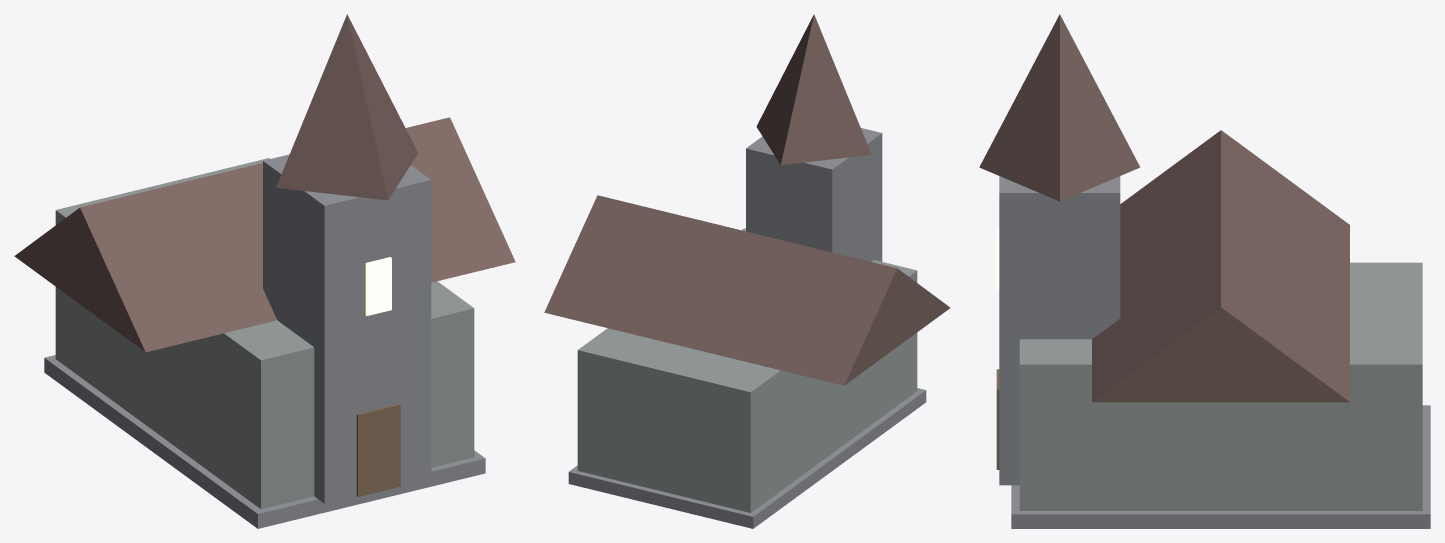
File: church.glb
3 views of the same model, side by side, from view 1: azimuth 30°, elevation 25°; view 2: azimuth 150°, elevation 25°; view 3: azimuth 270°, elevation 25° (orthographic). The views are drawn at different scales.
Visible parts, largest first — view 1: church; view 2: church; view 3: church.
Boxes of the visible parts, x1,y1,x2,y2 form: church: [14, 14, 515, 528]; church: [544, 14, 950, 528]; church: [979, 14, 1430, 528].
Size of the model in its own units: 10.4 by 12.6 by 11.2.
